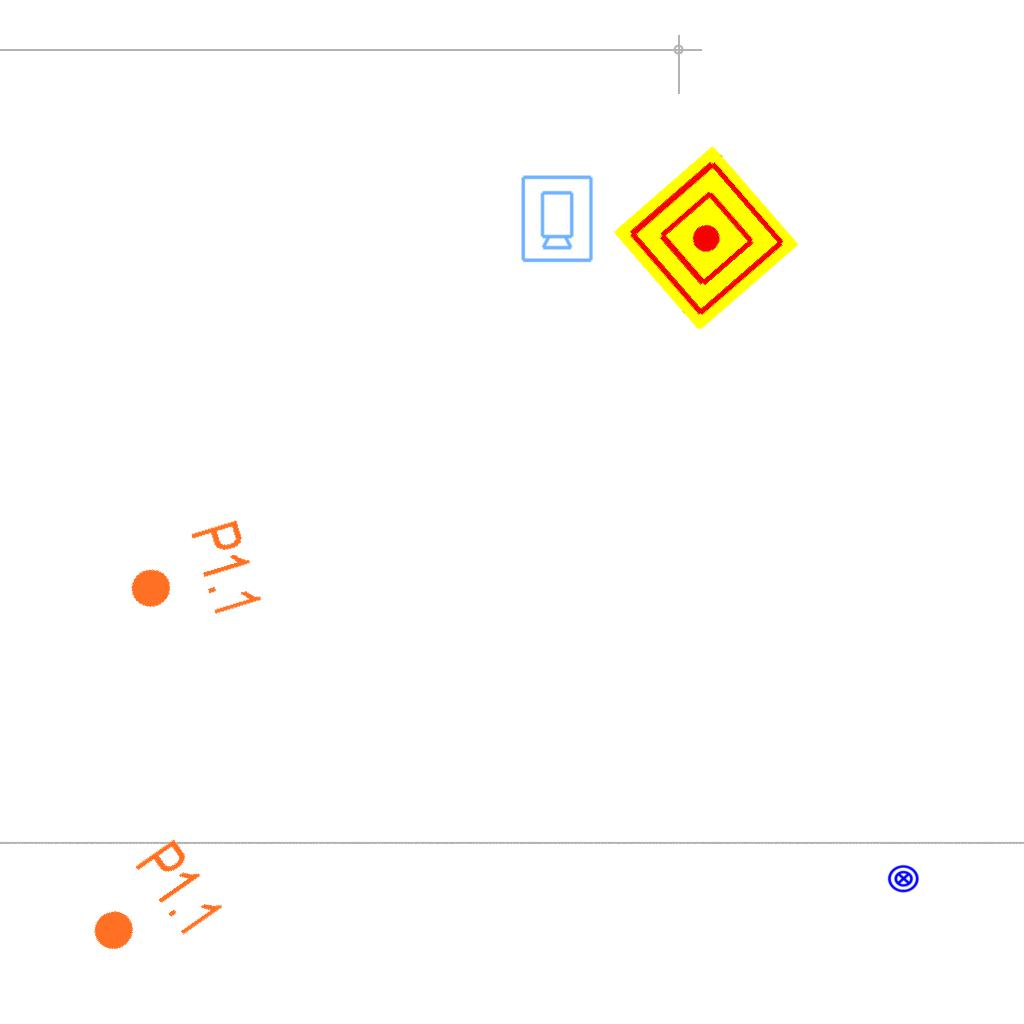Downlight_LED_Einbauleuchten_Flur: (70, 834, 229, 984), (116, 515, 267, 643)
KFO_Kamera_mit_Festobjektiv: (518, 173, 595, 264)
NAM-Nichtautomatischer_Melder: (612, 144, 800, 332)
Taster_beleuchtet: (887, 862, 920, 895)
